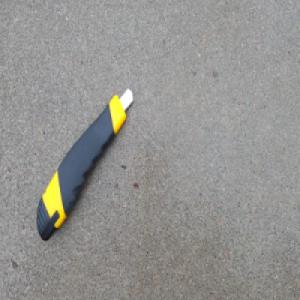Cutter: (36, 88, 134, 244)
